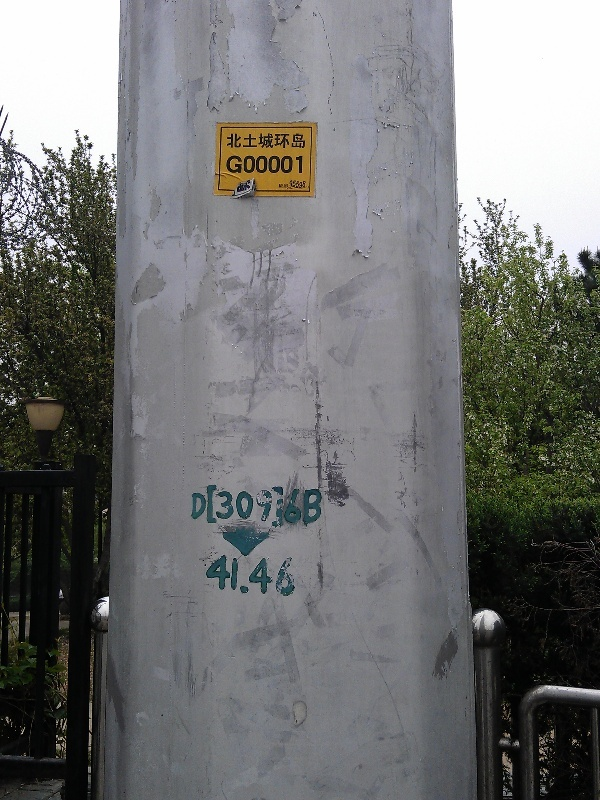text: (193, 483, 208, 526), (209, 483, 224, 526), (225, 483, 240, 526), (241, 483, 256, 526), (257, 483, 272, 526), (273, 483, 288, 526), (289, 483, 304, 526), (305, 483, 320, 526), (209, 556, 224, 595), (225, 556, 240, 595), (241, 556, 256, 595), (257, 556, 272, 595), (273, 556, 288, 595), (289, 556, 297, 595), (241, 156, 256, 174), (257, 156, 272, 174), (273, 156, 288, 174), (289, 156, 304, 174), (227, 156, 240, 174), (241, 134, 256, 149), (257, 134, 272, 149), (273, 134, 288, 149), (289, 134, 304, 149), (227, 134, 240, 149), (204, 556, 208, 595), (290, 180, 304, 189), (321, 483, 322, 526), (279, 184, 288, 188), (305, 134, 306, 149), (305, 180, 306, 189)
